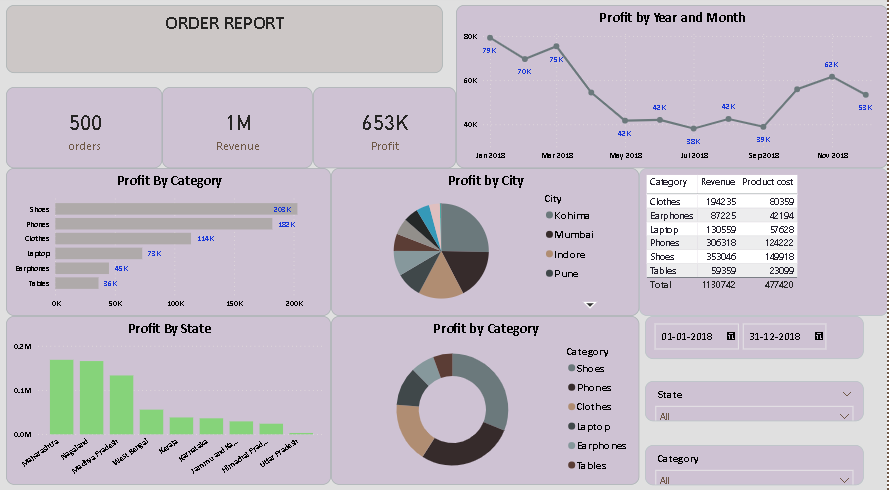

This screenshot's page, from the dashboard's own definition file:
{"tool":"powerbi","page":{"name":"Page 2","canvas":[1280,720],"ordinal":0},"visuals":[{"type":"textbox","box":[10.1,14.4,629.3,97.9],"z":0},{"type":"card","fields":{"Values":["CountNonNull(Orders.Order ID)"]},"box":[10.1,132.5,224.6,116.6],"z":1000},{"type":"card","fields":{"Values":["Sum(Orders.order_total)"]},"box":[234.7,132.5,217.4,116.6],"z":2000},{"type":"card","fields":{"Values":["Sum(Orders.Profit)"]},"box":[452.2,132.5,205.9,116.6],"z":3000},{"type":"lineChart","title":"Profit by Year and Month","fields":{"Y":["Sum(Orders.Profit)"],"Category":["Orders.Order Date.Variation.Date Hierarchy.Year","Orders.Order Date.Variation.Date Hierarchy.Month"]},"box":[658.1,14.4,622.1,234.7],"z":4000},{"type":"clusteredBarChart","title":"Profit By Category","fields":{"Category":["Orders.Category"],"Y":["Sum(Orders.Profit)"]},"box":[10.1,249.1,468,213.1],"z":5000},{"type":"clusteredColumnChart","title":"Profit By State","fields":{"Y":["Sum(Orders.Profit)"],"Category":["Orders.State"]},"box":[10.1,462.2,468,243.4],"z":6000},{"type":"pieChart","title":"Profit by City","fields":{"Category":["Orders.City"],"Y":["Sum(Orders.Profit)"]},"box":[478.1,249.1,443.5,213.1],"z":7000},{"type":"donutChart","title":"Profit by Category","fields":{"Category":["Orders.Category"],"Y":["Sum(Orders.Profit)"]},"box":[478.1,462.2,443.5,243.4],"z":8000},{"type":"tableEx","fields":{"Values":["Orders.Category","Sum(Orders.order_total)","Sum(Orders.Product cost)"]},"box":[921.6,249.1,358.6,213.1],"z":9000},{"type":"slicer","fields":{"Values":["Orders.Order Date"]},"box":[930.2,462.2,315.4,61.9],"z":10000},{"type":"slicer","fields":{"Values":["Orders.Category"]},"box":[930.2,648,315.4,57.6],"z":11000},{"type":"slicer","fields":{"Values":["Orders.State"]},"box":[930.2,555.8,315.4,57.6],"z":12000}]}

Visuals, with their boxes in screenshot pixels (x1, y1, x2, y2), scaled from the page's 1280x720 canvas onto the 889x490 screenshot:
textbox: [left=7, top=10, right=444, bottom=76]
card - CountNonNull(Orders.Order ID): [left=7, top=90, right=163, bottom=170]
card - Sum(Orders.order_total): [left=163, top=90, right=314, bottom=170]
card - Sum(Orders.Profit): [left=314, top=90, right=457, bottom=170]
"Profit by Year and Month" lineChart: [left=457, top=10, right=888, bottom=170]
"Profit By Category" clusteredBarChart: [left=7, top=170, right=332, bottom=315]
"Profit By State" clusteredColumnChart: [left=7, top=315, right=332, bottom=480]
"Profit by City" pieChart: [left=332, top=170, right=640, bottom=315]
"Profit by Category" donutChart: [left=332, top=315, right=640, bottom=480]
tableEx - Orders.Category x Sum(Orders.order_total): [left=640, top=170, right=888, bottom=315]
slicer - Orders.Order Date: [left=646, top=315, right=865, bottom=357]
slicer - Orders.Category: [left=646, top=441, right=865, bottom=480]
slicer - Orders.State: [left=646, top=378, right=865, bottom=417]
